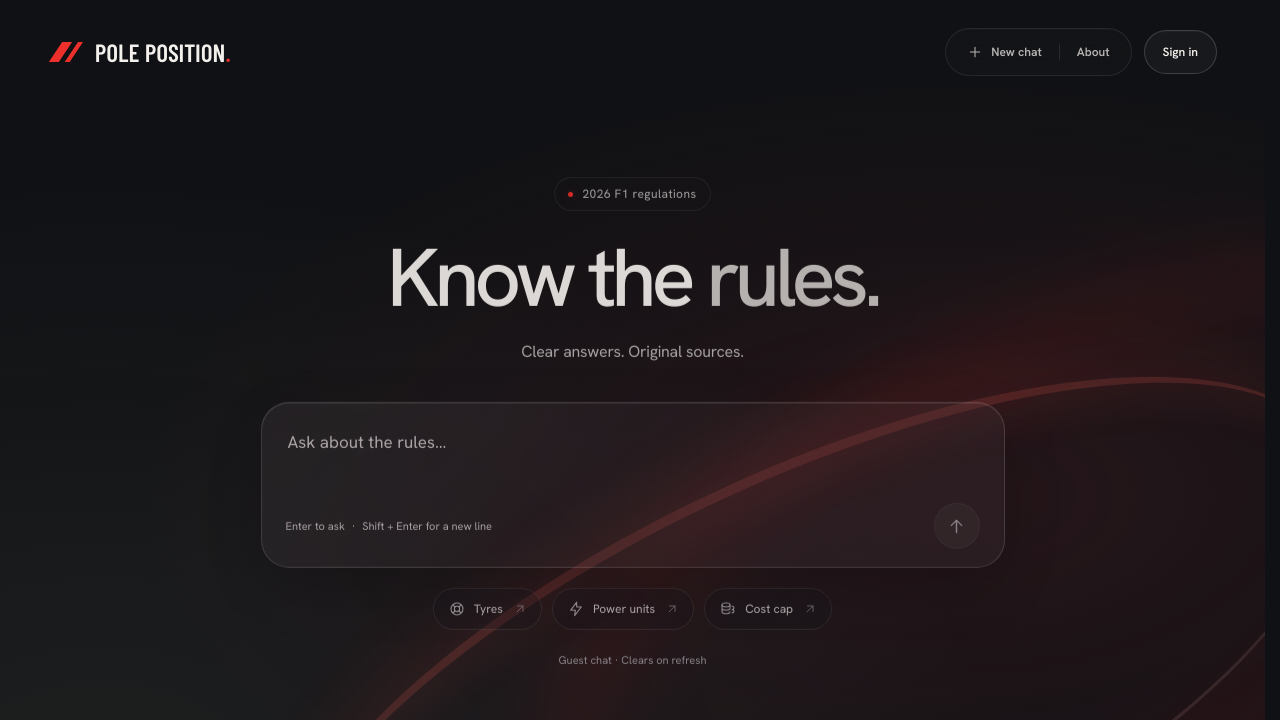
it: guest chat integration › shows loading and blocks repeated submits before the answer arrives
Type "Pending question" into the text box at (632, 457), box x1=286 y1=424 x2=980 y2=490
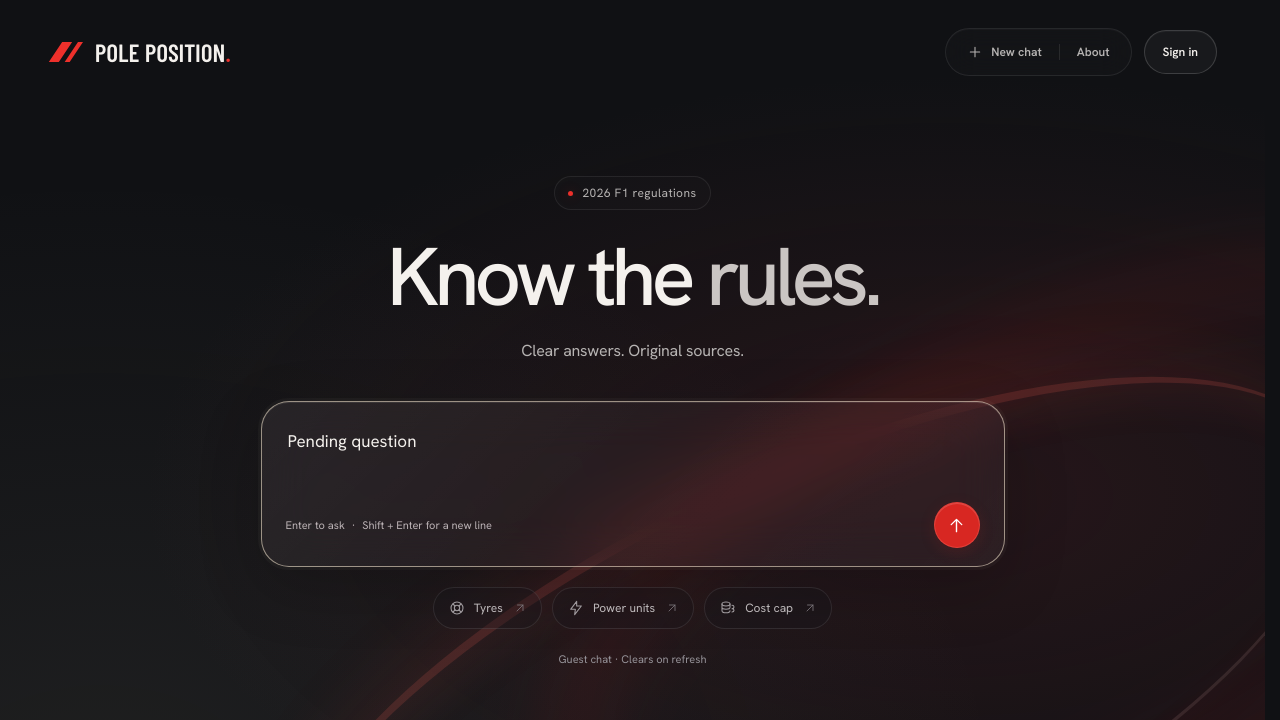
Click the button named "Send question" at (956, 525), box x1=934 y1=502 x2=980 y2=548
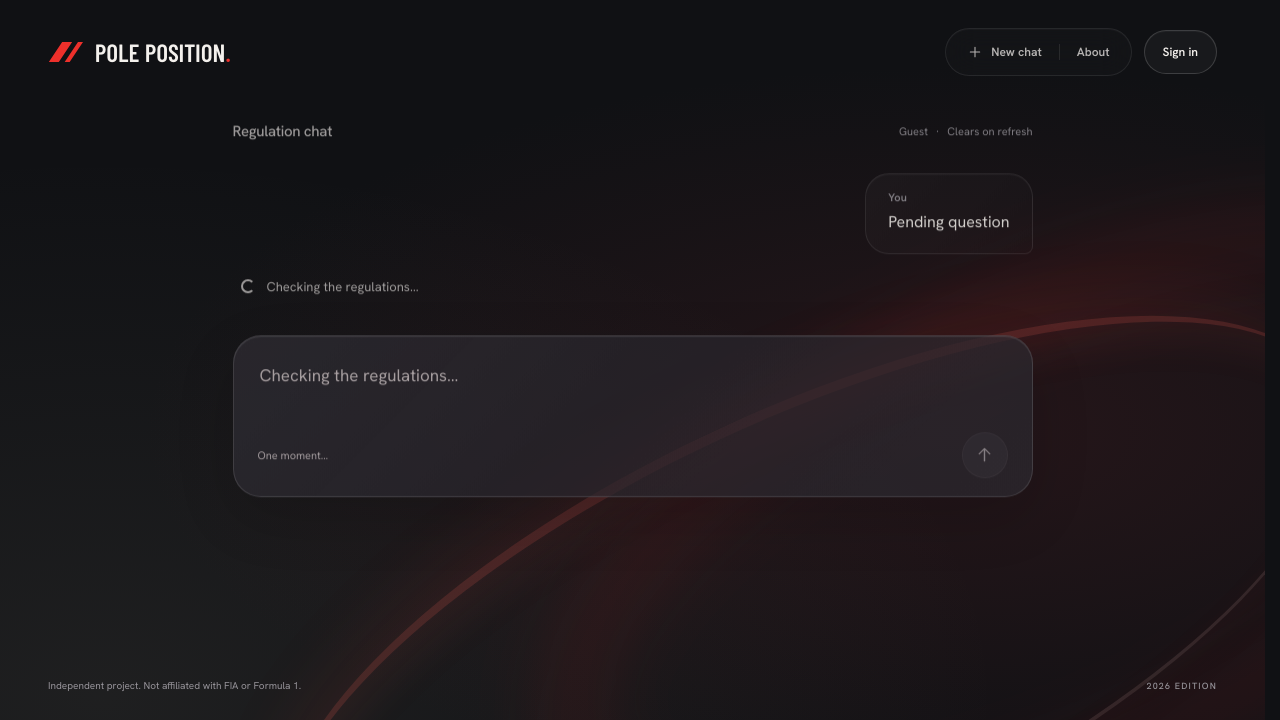
Check: the message shows "Checking the regulations", box x1=266 y1=277 x2=419 y2=294
Check: the button named "Send question" is disabled, box x1=962 y1=431 x2=1008 y2=477
Submit the form, box x1=232 y1=334 x2=1032 y2=496
Press Enter in the text box, box x1=258 y1=357 x2=1008 y2=419
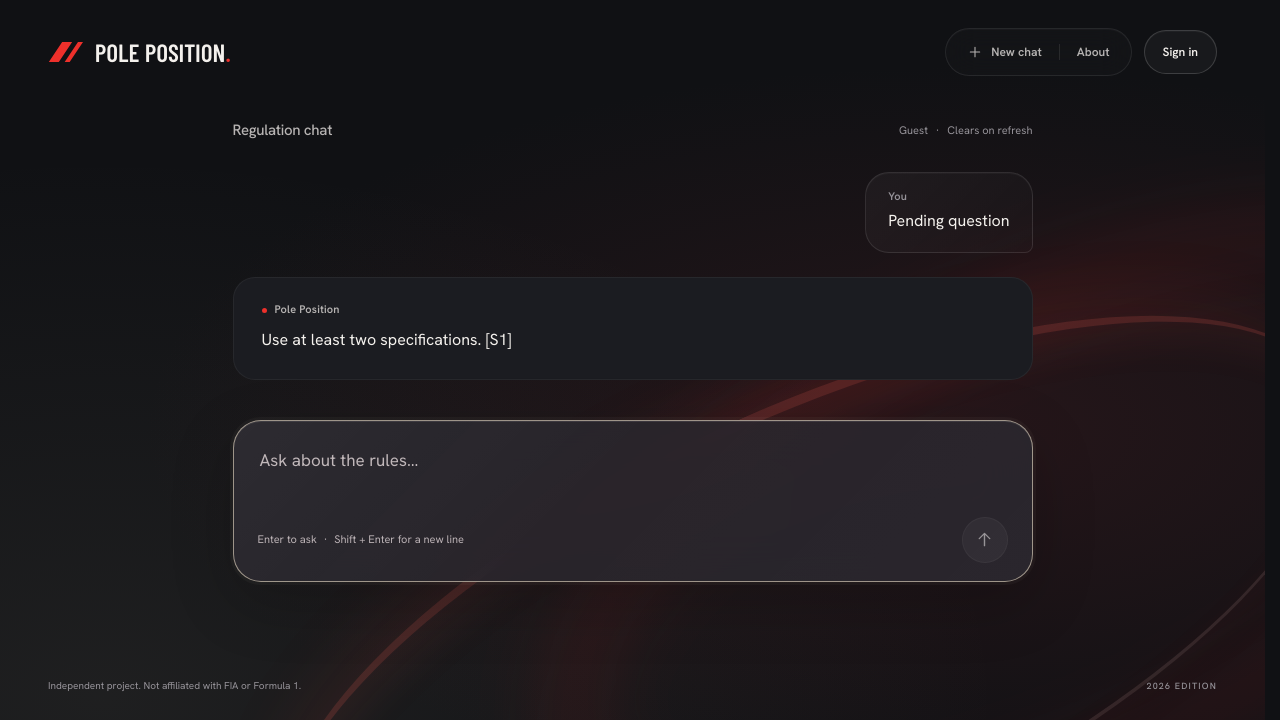
Check: the text "Use at least two specifications. [S1]" is shown, box x1=262 y1=329 x2=512 y2=350
Check: the message "Checking the regulations…" is gone
